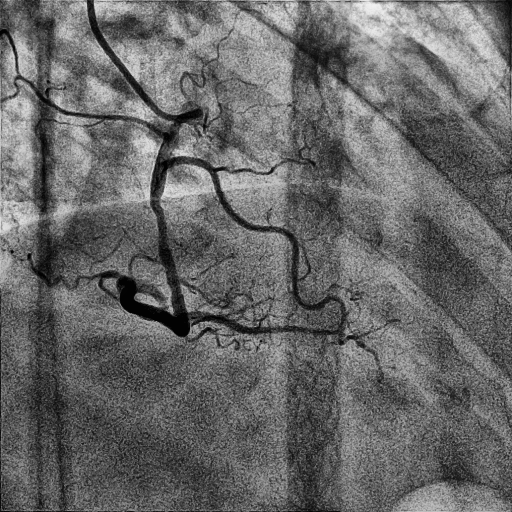rca: (120, 103, 201, 337)
